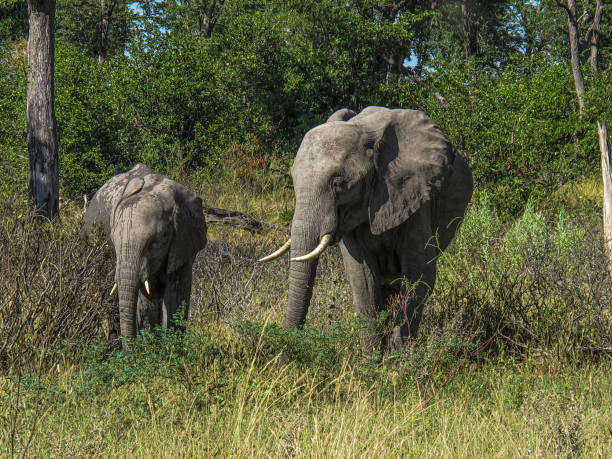africanelephant: (233, 103, 445, 282)
